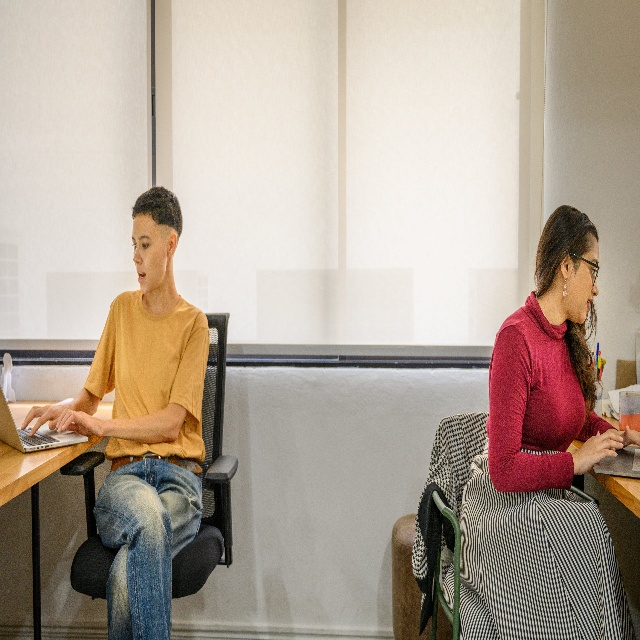Gafas: (571, 252, 599, 288)
Sin_guantes: (575, 431, 624, 474), (20, 399, 75, 435), (55, 404, 102, 441), (619, 425, 640, 447)
